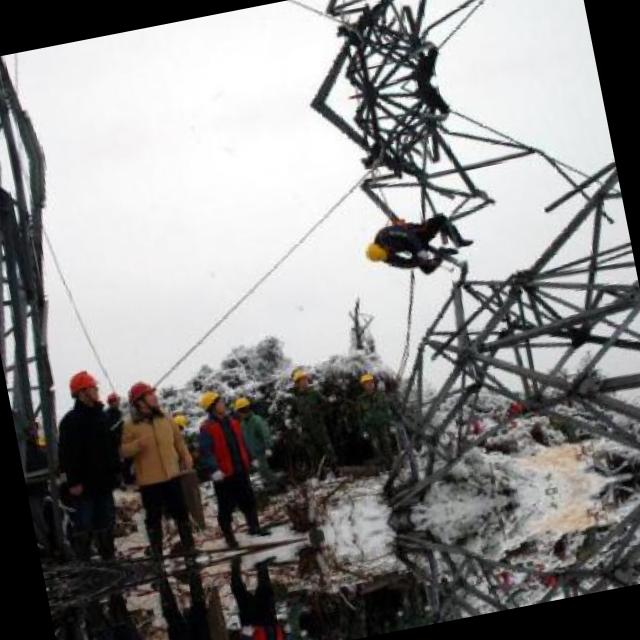helmet: (122, 375, 166, 421), (66, 366, 102, 408), (193, 386, 229, 422), (364, 234, 396, 264), (228, 389, 253, 418), (292, 366, 312, 391), (358, 368, 376, 392)
